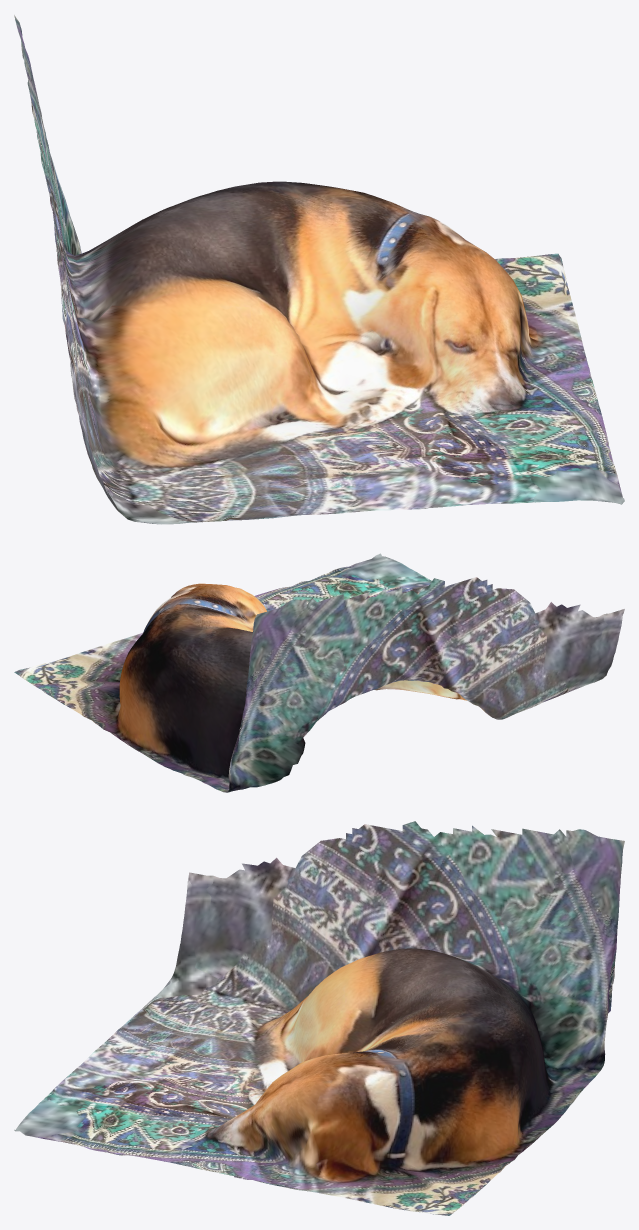
File: wienerDog2.glb
3 views of the same model, one above another, from view 1: azimuth 30°, elevation 25°; view 2: azimuth 150°, elevation 25°; view 3: azimuth 270°, elevation 25° (orthographic). The views are drawn at different scales.
Parts seen in each view (by area): view 1: cropped_textured_meshobjcleanermaterialmergergles; view 2: cropped_textured_meshobjcleanermaterialmergergles; view 3: cropped_textured_meshobjcleanermaterialmergergles.
Part boxes in pixels (left/top/right/bottom): cropped_textured_meshobjcleanermaterialmergergles: left=14, top=15, right=624, bottom=524; cropped_textured_meshobjcleanermaterialmergergles: left=14, top=553, right=624, bottom=792; cropped_textured_meshobjcleanermaterialmergergles: left=14, top=821, right=624, bottom=1215.
Size of the model in its own units: 8.51 by 3.6 by 8.85.
Materials: 1 (1 with a texture image).
